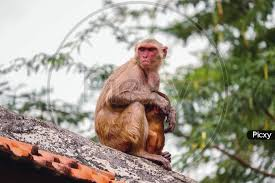monkey: (75, 9, 184, 139)
